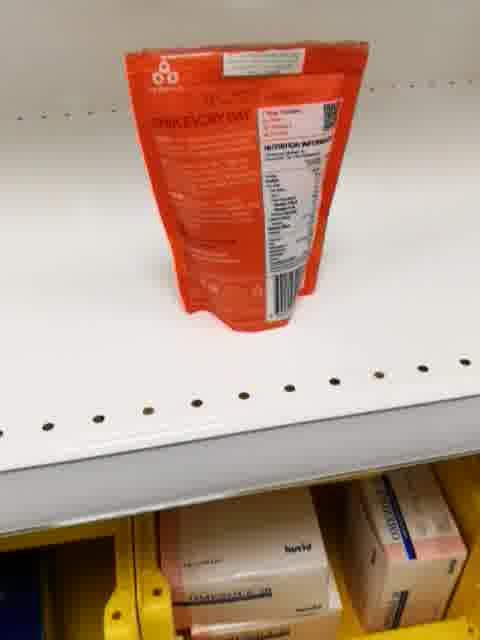whitechia: (121, 39, 373, 334)
